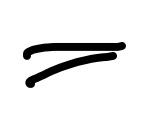eqv: (22, 42, 125, 88)
